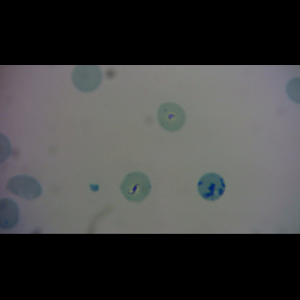aggregate reticulocyte: (197, 172, 226, 201)
erythrocyte: (120, 171, 152, 203), (5, 175, 43, 201), (70, 65, 103, 93), (157, 102, 187, 132)
